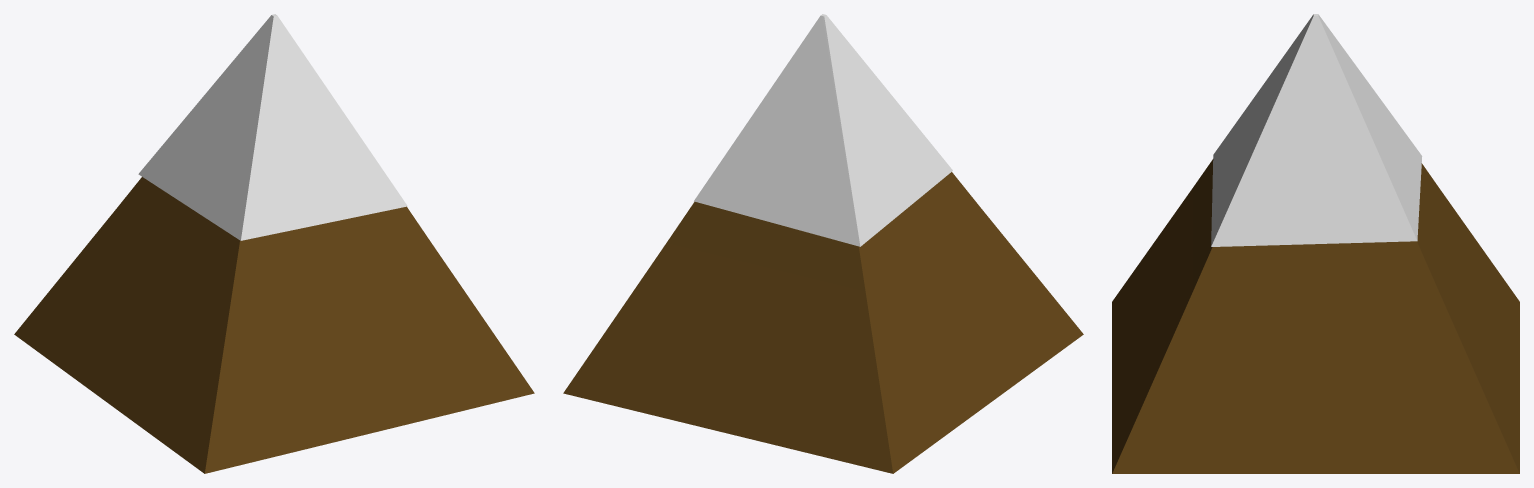
File: mount.fbx
3 views of the same model, side by side, from view 1: azimuth 30°, elevation 25°; view 2: azimuth 150°, elevation 25°; view 3: azimuth 270°, elevation 25° (orthographic). The views are drawn at different scales.
Parts seen in each view (by area): view 1: Cube; view 2: Cube; view 3: Cube.
Part boxes in pixels (<box>): Cube: <box>14,14,534,473</box>; Cube: <box>563,14,1083,473</box>; Cube: <box>1112,14,1519,473</box>.
Size of the model in its own units: 200 by 202 by 200.
